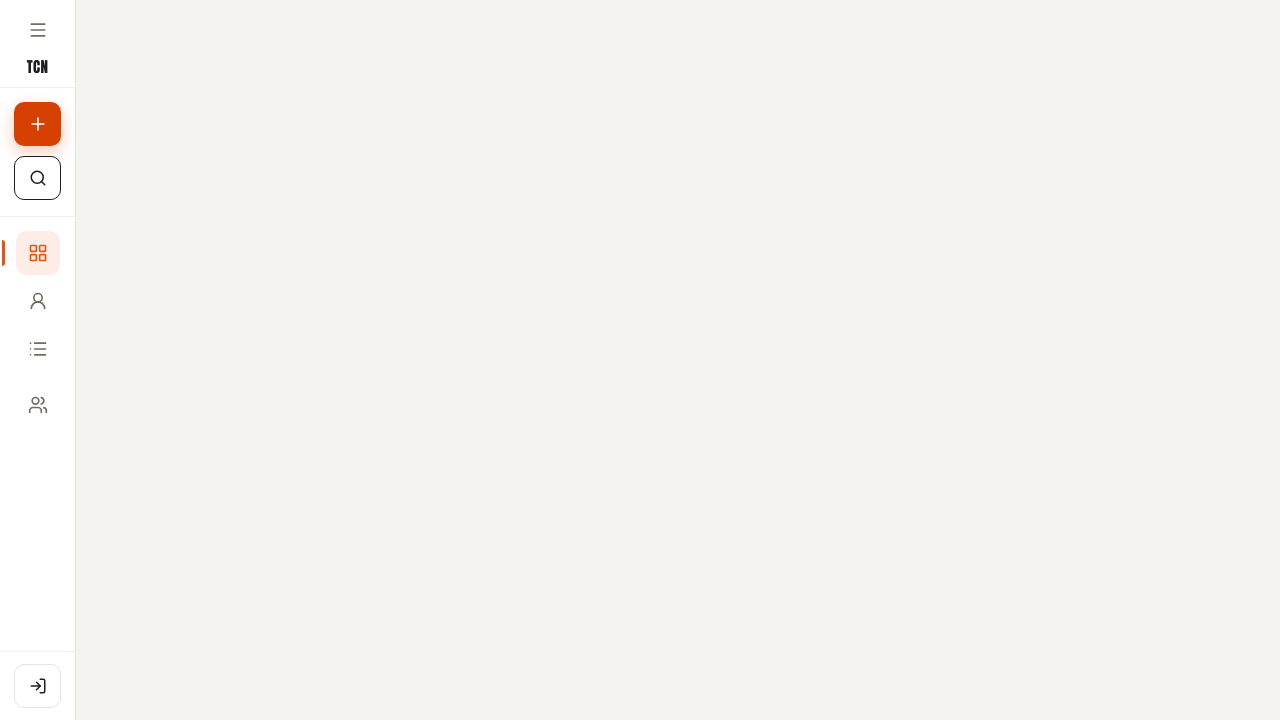
Test: AppNav — actions primaires › garde une icône de recherche cliquable, athlète retenu, rail replié (#323)
The width and height of the screenshot is (1280, 720).
Click the button named "Rechercher un athlète": (38, 178) left=14, top=156, right=61, bottom=200
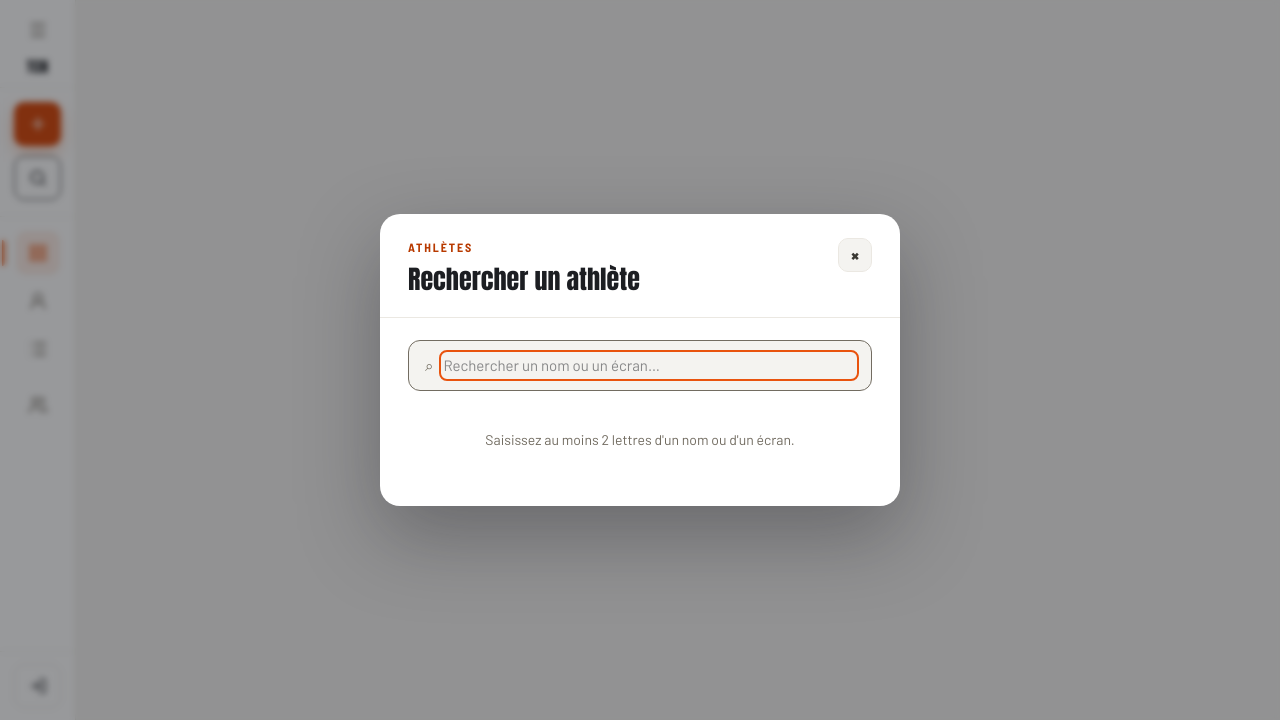
Check: the dialog is shown, box left=380, top=214, right=900, bottom=506
